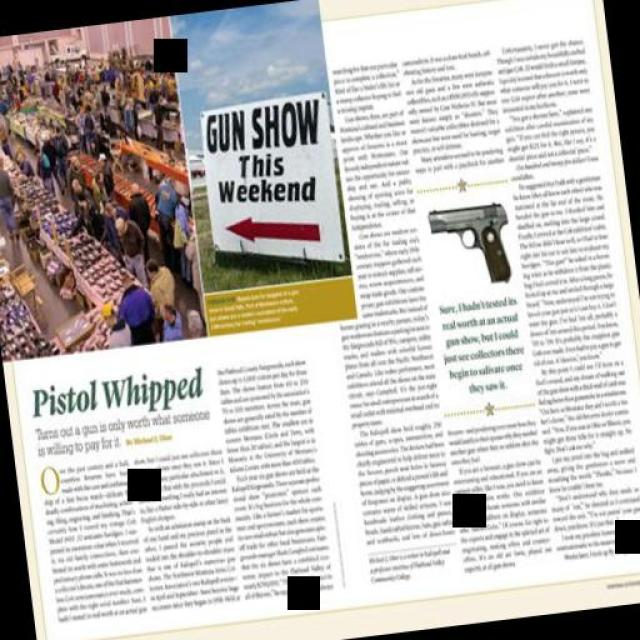gun: (423, 199, 512, 295)
